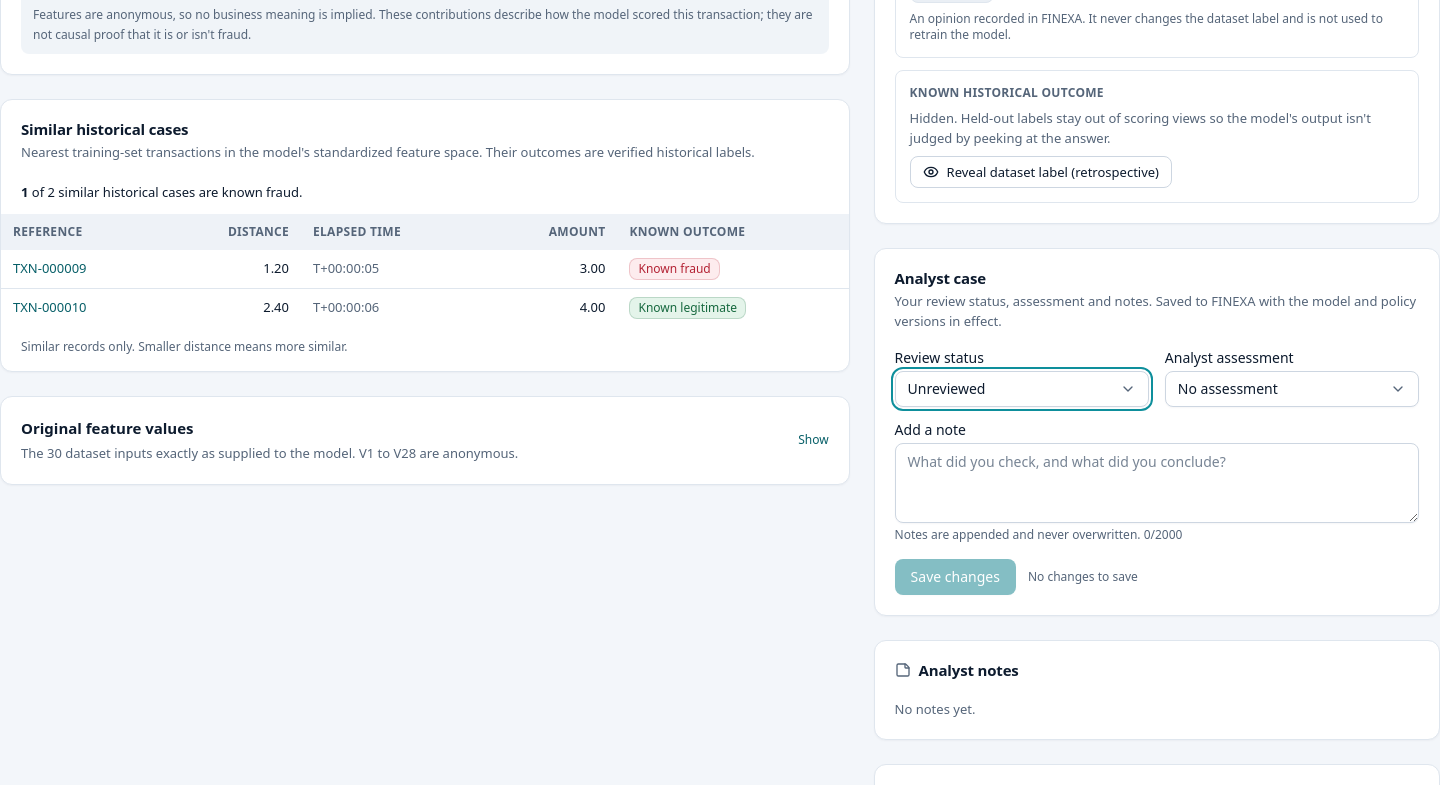
case investigation page › won't close a case without an assessment and never sends the request
The width and height of the screenshot is (1440, 785).
(page scrolled)
Expected: the button "Save changes" is shown, [895,559,1016,595]
Press Enter
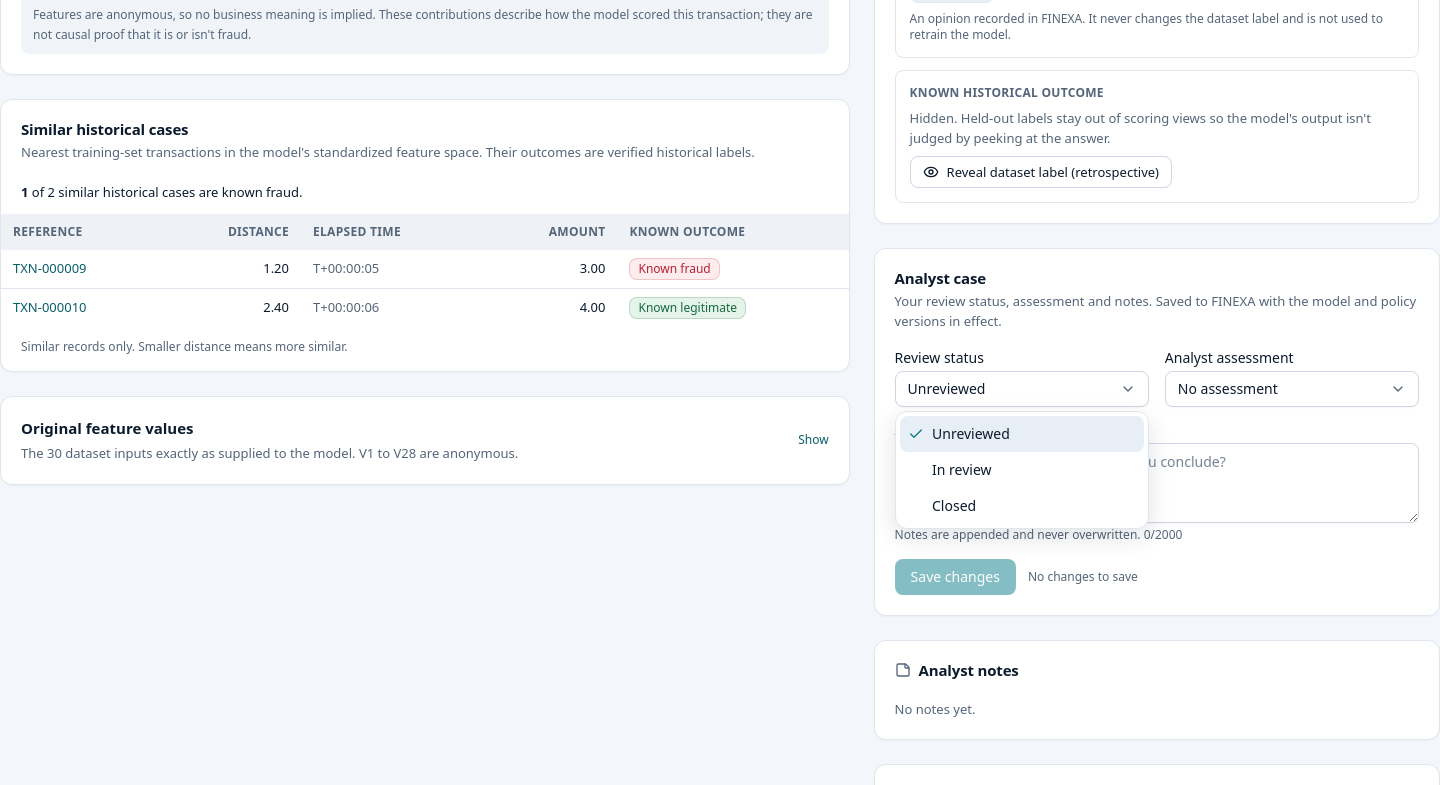
Click the option "Closed". click: (954, 506)
box: [932,496,976,515]
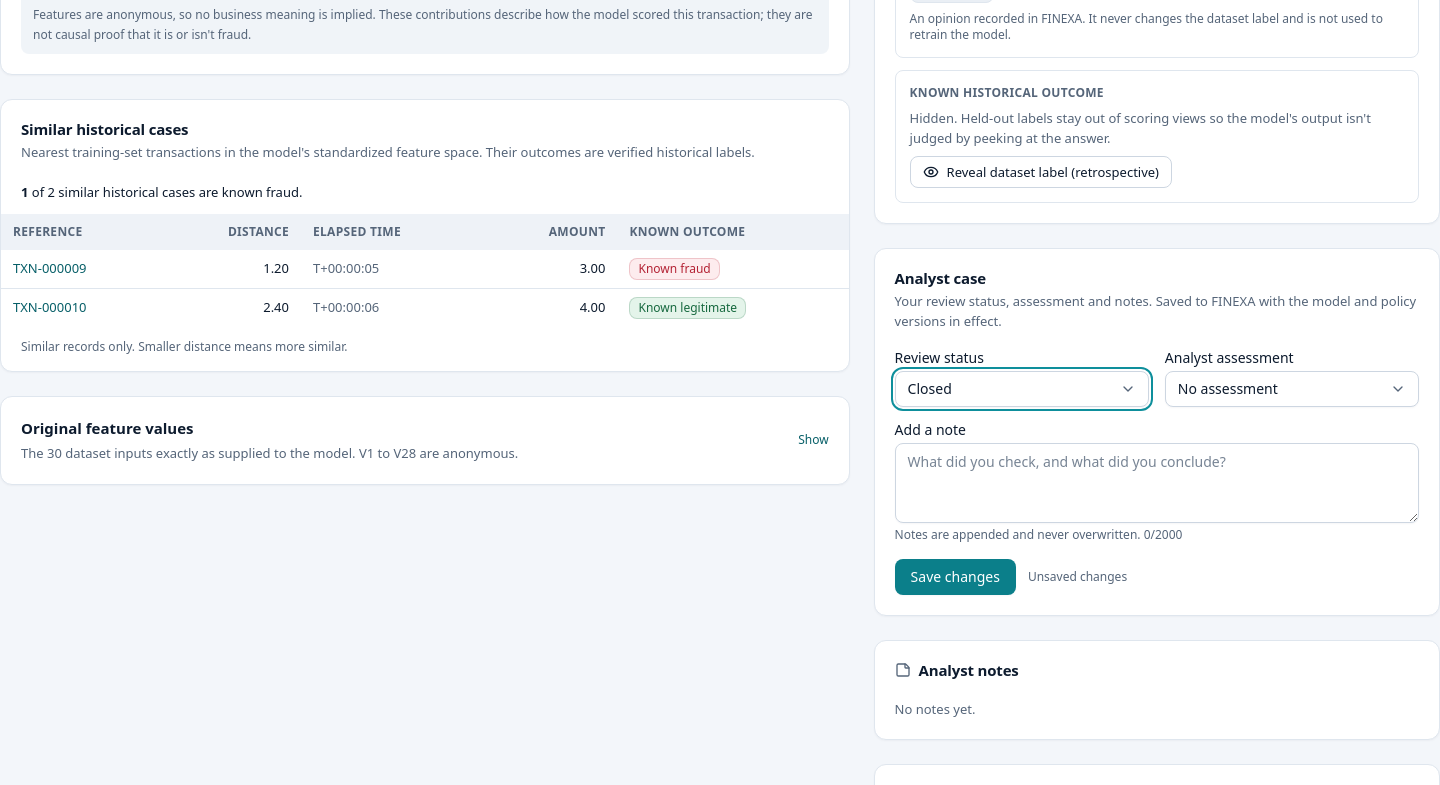
Click the button "Save changes". click: (955, 577)
box: [895,559,1016,595]
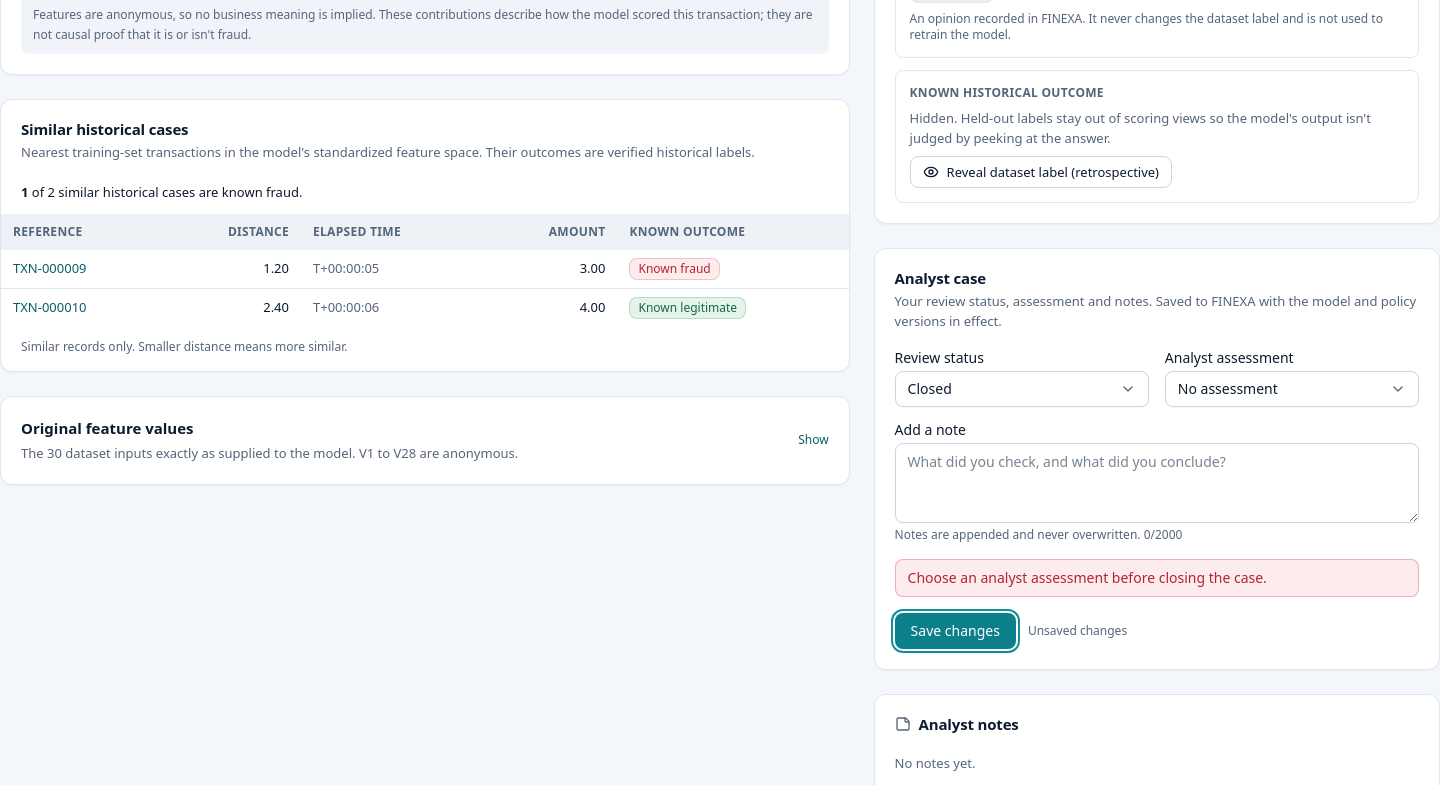
Result: the message shows "Choose an analyst assessment before closing" at [908,568,1267,587]
